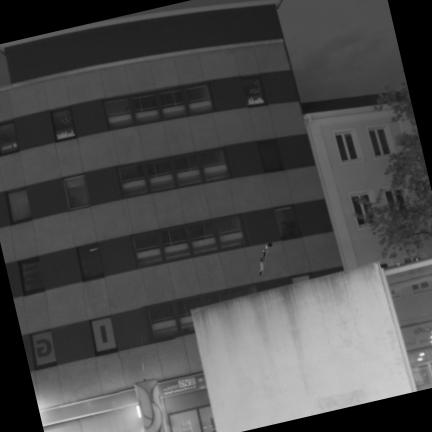Shahed: (259, 242, 273, 276)
